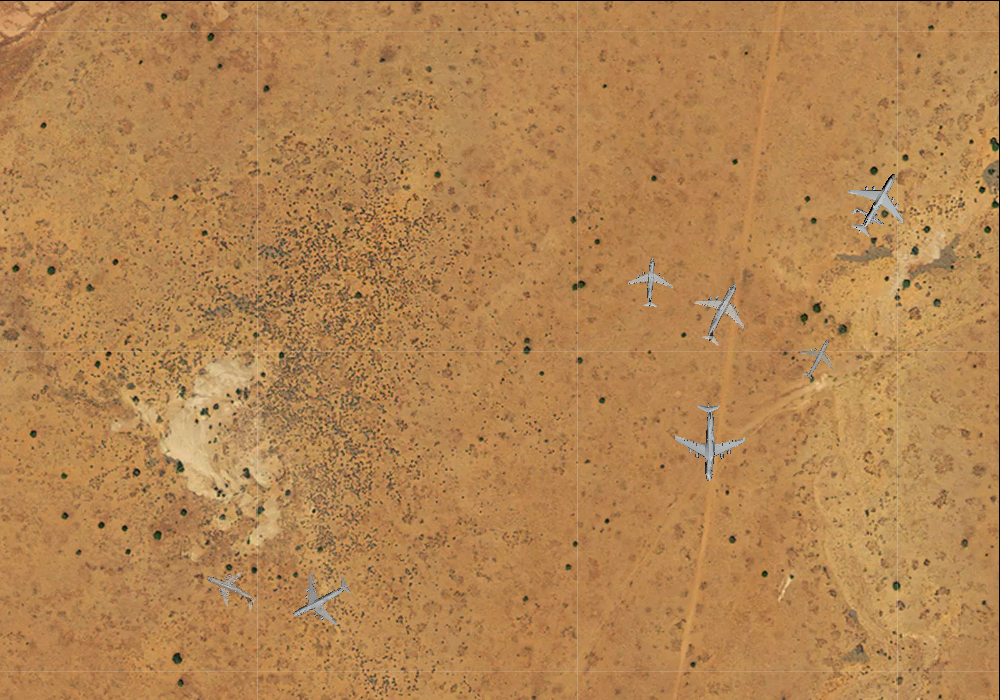plane: (832, 157, 922, 249), (680, 269, 765, 356), (278, 558, 362, 641), (670, 402, 747, 482), (195, 558, 265, 623), (789, 330, 845, 387), (625, 255, 677, 309), (845, 195, 891, 239)
